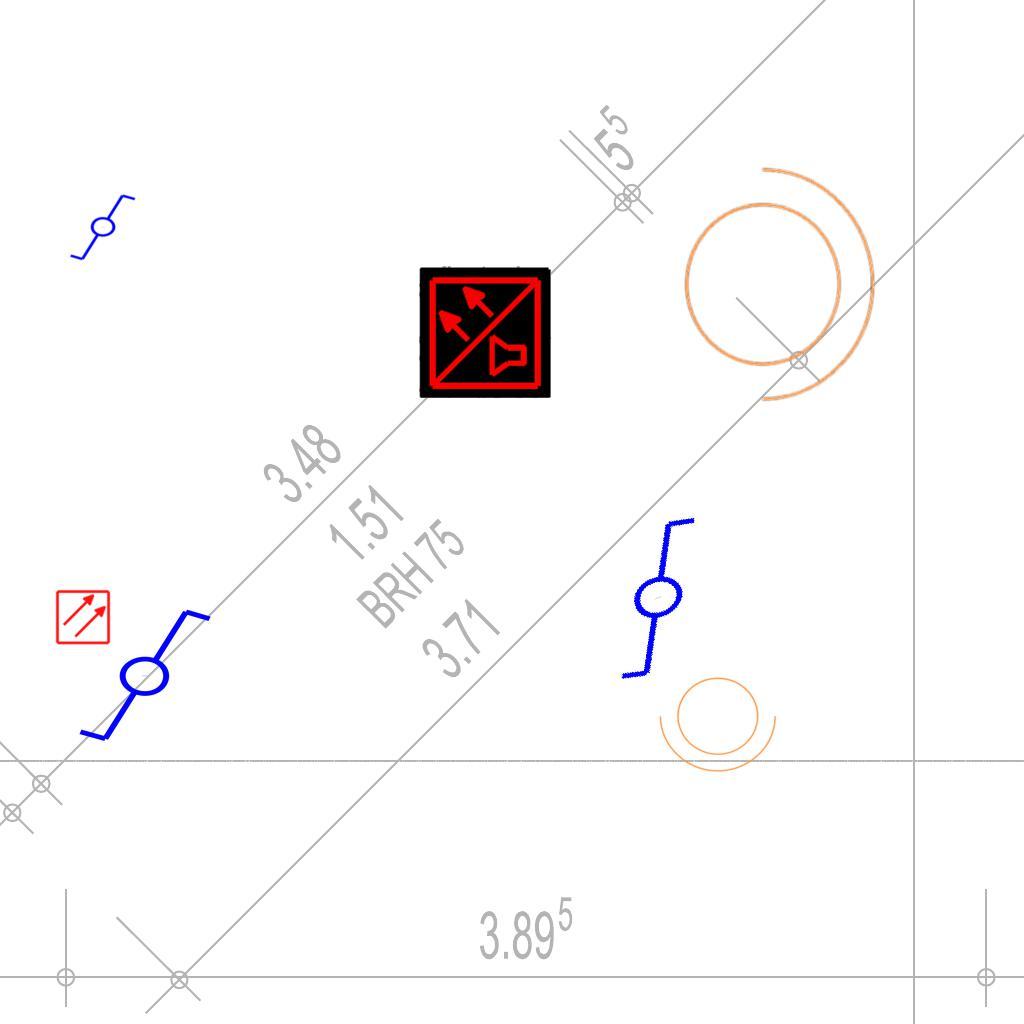OKW_Multisensormelder_(Kombination_optischer_Rauch-Kahlenmonoxid_Waerme-Melder): (419, 266, 551, 398)
RMO_Rauchmelder_optischer: (55, 589, 111, 645)
Scheinwerfer_fuer_Alarmbeleuchtung: (660, 146, 885, 410), (655, 665, 787, 777)
Wechselschalter: (565, 498, 768, 694), (58, 602, 215, 746), (68, 192, 146, 264)
